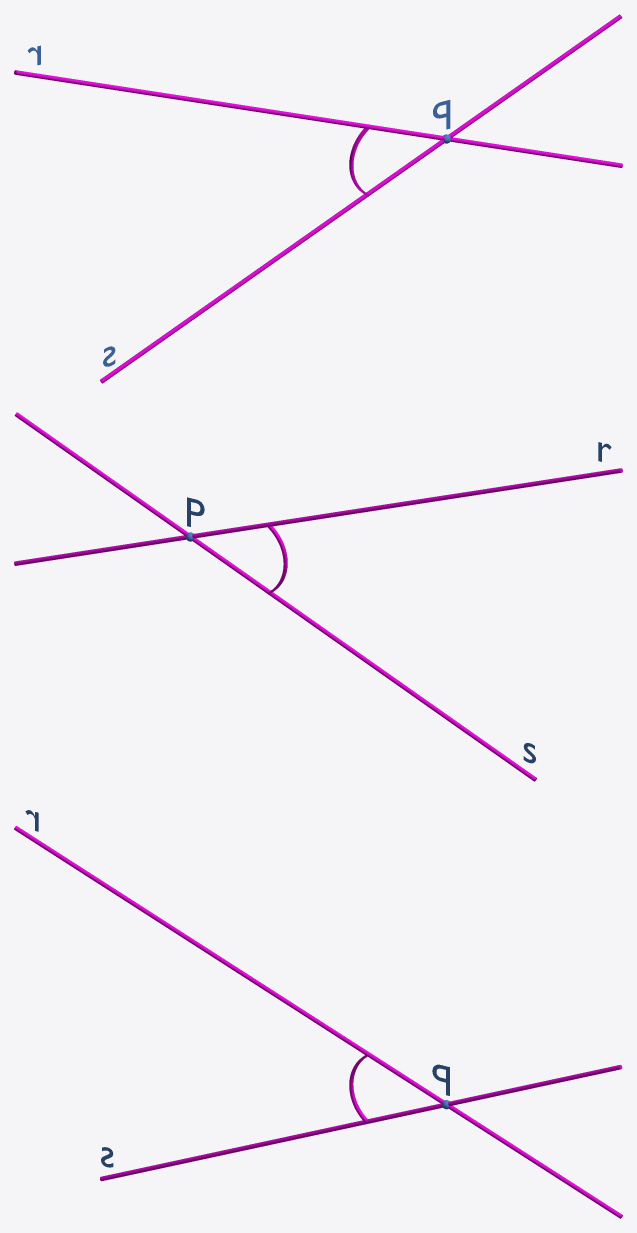
The model's file is ob1.5_retas_obliquas.glb.
3 views of the same model, one above another, from view 1: azimuth 30°, elevation 25°; view 2: azimuth 150°, elevation 25°; view 3: azimuth 330°, elevation 25° (orthographic).
Parts seen in each view (by area): view 1: Sphere4_Sphere; view 2: Sphere4_Sphere; view 3: Sphere4_Sphere.
Part boxes in pixels (x1,y1,x2,y2): Sphere4_Sphere: (14, 14, 622, 383); Sphere4_Sphere: (14, 412, 622, 781); Sphere4_Sphere: (14, 826, 622, 1218).
Bounding box in the file's own units: 14.99 × 8.35 × 0.2.
